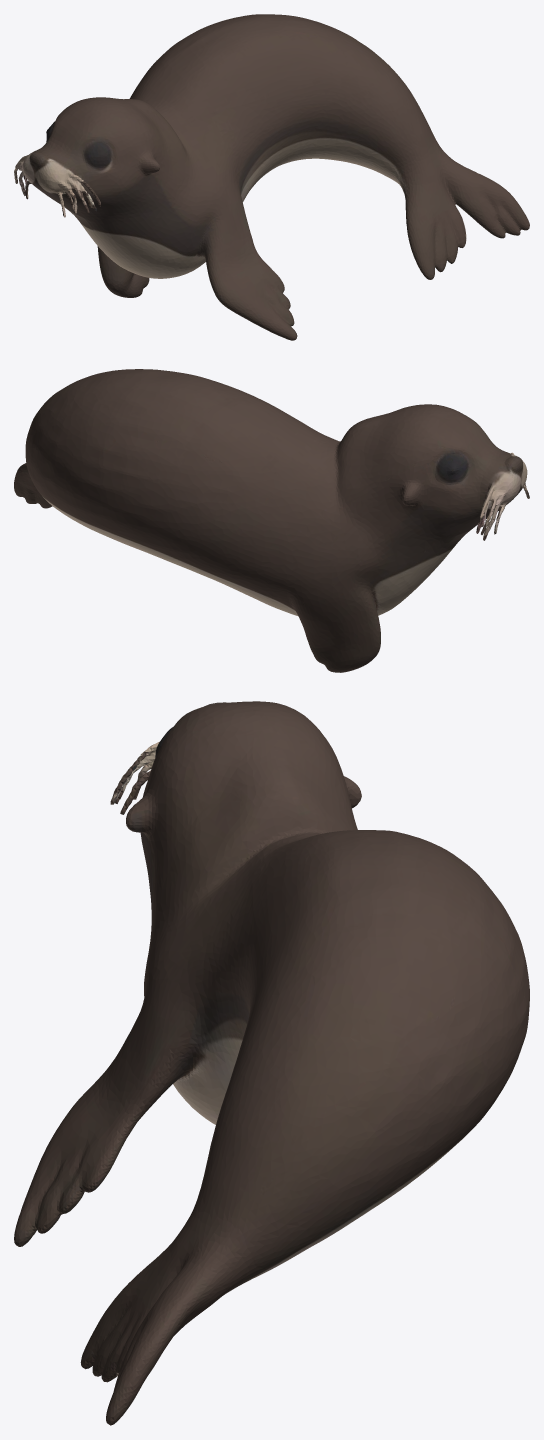
File: reggie_sweep.glb
3 renders of one model, top to bottom at view 1: azimuth 30°, elevation 25°; view 2: azimuth 150°, elevation 25°; view 3: azimuth 270°, elevation 25°, orthographic. The views are drawn at different scales.
Parts seen in each view (by area): view 1: tmpk01j_zlq.ply; view 2: tmpk01j_zlq.ply; view 3: tmpk01j_zlq.ply.
Part boxes in pixels (<box>): tmpk01j_zlq.ply: <box>14,14,529,340</box>; tmpk01j_zlq.ply: <box>14,369,529,672</box>; tmpk01j_zlq.ply: <box>14,701,529,1425</box>.
Size of the model in its own units: 2 by 0.9469 by 1.03.
Materials: 1 (1 with a texture image).
